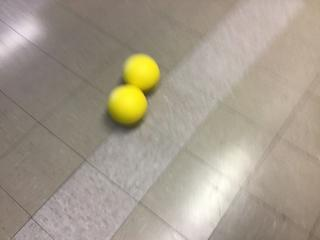power_cell: (107, 84, 149, 126), (122, 51, 162, 92)
